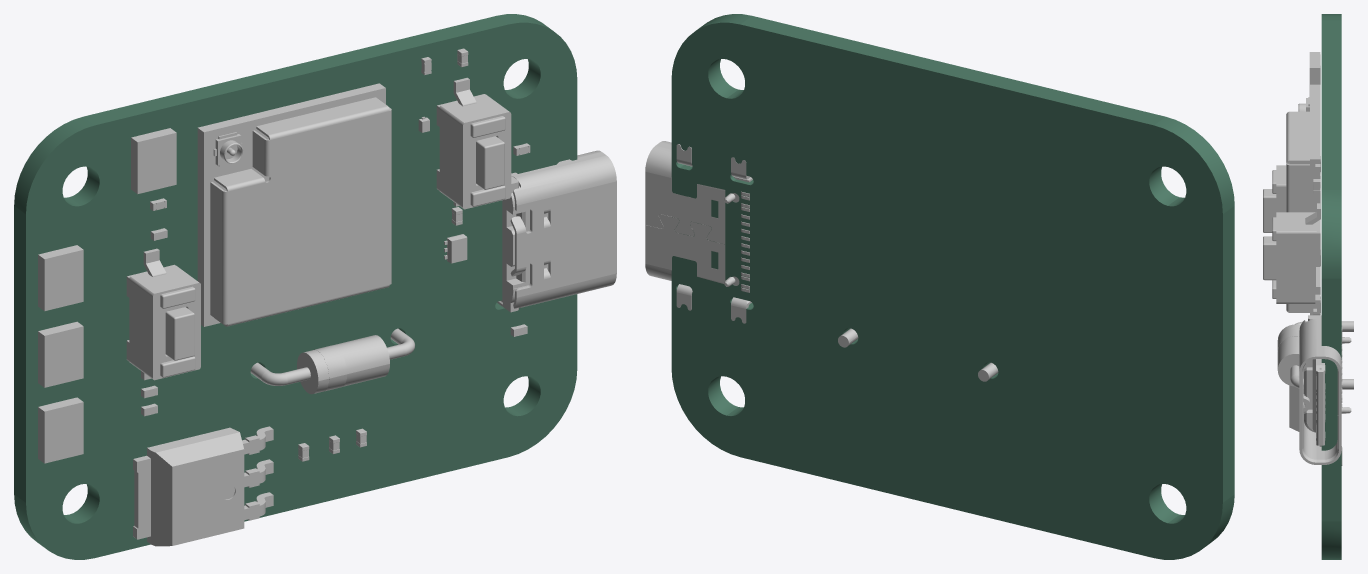
File: one1.glb
The picture shows the model from 3 angles, left to right: view 1: azimuth 30°, elevation 25°; view 2: azimuth 150°, elevation 25°; view 3: azimuth 270°, elevation 25°; orthographic projection. The views are drawn at different scales.
Visible parts, largest first — view 1: empty_184, empty_74, empty_16, empty_35, empty_54, empty_167, empty_6, empty_17, empty_32, empty_41, empty_45, empty_181 (+5 smaller); view 2: empty_184, empty_16; view 3: empty_184, empty_16, empty_17, empty_74, empty_167, empty_54, empty_26, empty_15, empty_35, empty_23, empty_181, empty_6 (+2 smaller).
Boxes of the visible parts, <box> form: empty_184: <box>14,14,577,559</box>; empty_74: <box>210,97,391,326</box>; empty_16: <box>497,150,616,312</box>; empty_35: <box>147,427,244,546</box>; empty_54: <box>197,83,385,326</box>; empty_167: <box>250,328,414,394</box>; empty_6: <box>126,264,196,377</box>; empty_17: <box>436,94,506,206</box>; empty_32: <box>38,321,83,387</box>; empty_41: <box>38,397,83,463</box>; empty_45: <box>38,245,83,311</box>; empty_181: <box>131,128,176,194</box>; empty_184: <box>671,14,1234,559</box>; empty_16: <box>645,141,752,323</box>; empty_184: <box>1321,14,1341,559</box>; empty_16: <box>1299,315,1351,465</box>; empty_17: <box>1280,212,1320,303</box>; empty_74: <box>1286,111,1309,312</box>; empty_167: <box>1277,321,1353,389</box>; empty_54: <box>1310,84,1320,315</box>; empty_26: <box>1263,236,1276,280</box>; empty_15: <box>1263,189,1276,232</box>; empty_35: <box>1289,385,1299,431</box>; empty_23: <box>1276,212,1280,303</box>; empty_181: <box>1309,52,1320,96</box>; empty_6: <box>1280,165,1286,212</box>.
Size of the model in its own units: 41.91 by 30 by 6.8.
